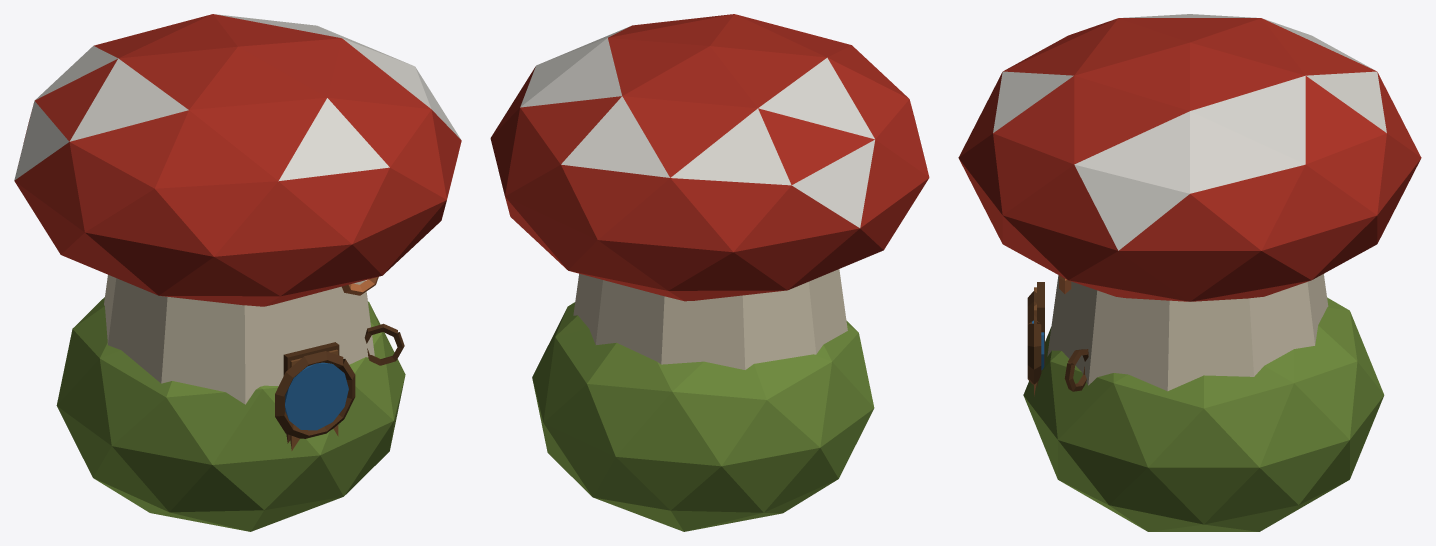
File: gnome_hall_broken.glb
The picture shows the model from 3 angles, left to right: view 1: azimuth 30°, elevation 25°; view 2: azimuth 150°, elevation 25°; view 3: azimuth 270°, elevation 25°; orthographic projection. The views are drawn at different scales.
Parts seen in each view (by area): view 1: gnome_hall_piece5, gnome_hall_piece3, gnome_hall_piece7, gnome_hall_piece9, gnome_hall_piece6, gnome_hall_piece1, gnome_hall_piece8, gnome_hall_piece2, gnome_hall_piece0, gnome_hall_piece10, gnome_hall_piece4; view 2: gnome_hall_piece1, gnome_hall_piece6, gnome_hall_piece7, gnome_hall_piece12, gnome_hall_piece2, gnome_hall_piece4, gnome_hall_piece0, gnome_hall_piece11, gnome_hall_piece9, gnome_hall_piece5; view 3: gnome_hall_piece2, gnome_hall_piece3, gnome_hall_piece8, gnome_hall_piece1, gnome_hall_piece11, gnome_hall_piece0, gnome_hall_piece12, gnome_hall_piece9, gnome_hall_piece7, gnome_hall_piece10.
Part boxes in pixels (<box>): gnome_hall_piece5: <box>105,172,304,516</box>; gnome_hall_piece3: <box>276,101,461,501</box>; gnome_hall_piece7: <box>14,51,257,283</box>; gnome_hall_piece9: <box>164,92,347,302</box>; gnome_hall_piece6: <box>56,277,266,531</box>; gnome_hall_piece1: <box>23,14,289,360</box>; gnome_hall_piece8: <box>250,303,405,531</box>; gnome_hall_piece2: <box>279,21,450,131</box>; gnome_hall_piece0: <box>228,26,332,115</box>; gnome_hall_piece10: <box>264,89,347,188</box>; gnome_hall_piece4: <box>254,289,321,352</box>; gnome_hall_piece1: <box>515,41,833,471</box>; gnome_hall_piece6: <box>647,274,874,531</box>; gnome_hall_piece7: <box>706,39,929,315</box>; gnome_hall_piece12: <box>570,42,785,512</box>; gnome_hall_piece2: <box>490,15,724,442</box>; gnome_hall_piece4: <box>634,341,736,517</box>; gnome_hall_piece0: <box>537,17,789,369</box>; gnome_hall_piece11: <box>532,302,590,495</box>; gnome_hall_piece9: <box>783,30,891,89</box>; gnome_hall_piece5: <box>828,83,919,369</box>; gnome_hall_piece2: <box>1038,83,1381,430</box>; gnome_hall_piece3: <box>958,94,1198,404</box>; gnome_hall_piece8: <box>1026,372,1246,531</box>; gnome_hall_piece1: <box>1173,17,1421,327</box>; gnome_hall_piece11: <box>1195,397,1360,531</box>; gnome_hall_piece0: <box>1081,35,1362,367</box>; gnome_hall_piece12: <box>1113,34,1384,480</box>; gnome_hall_piece9: <box>962,26,1127,150</box>; gnome_hall_piece7: <box>1076,14,1243,51</box>; gnome_hall_piece10: <box>989,52,1090,118</box>.
Bounding box in the file's own units: 2.22 × 2.64 × 2.33.
